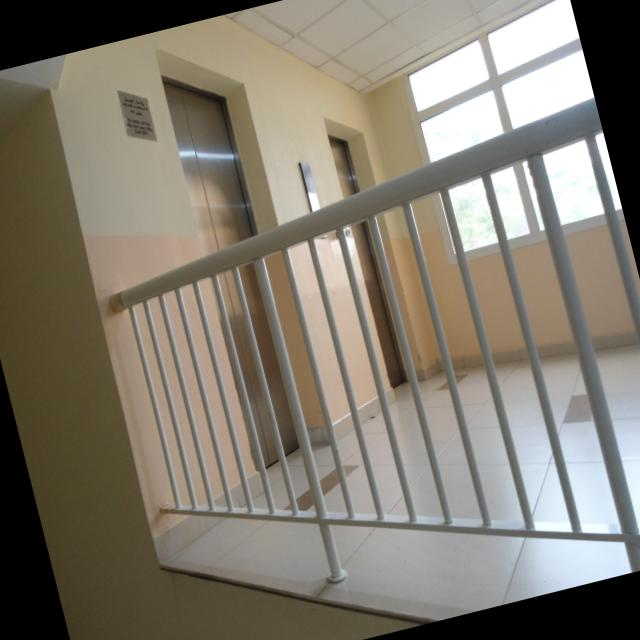lift: (154, 54, 328, 493), (321, 107, 417, 386)
liftbutton: (294, 148, 328, 240)
railing: (64, 84, 640, 640)
sign: (110, 74, 160, 154)
window: (400, 0, 625, 265)
